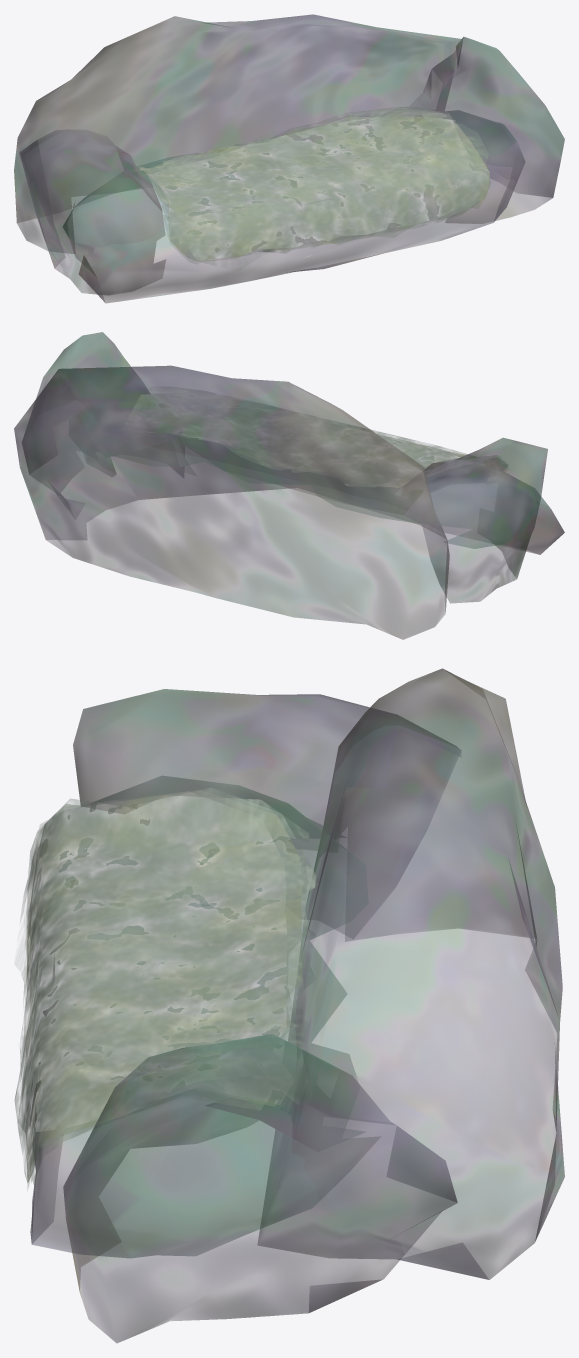
The model's file is Yoania_Mossy_Stone_Couch_Decentraland.glb.
3 renders of one model, top to bottom at view 1: azimuth 30°, elevation 25°; view 2: azimuth 150°, elevation 25°; view 3: azimuth 270°, elevation 25°, orthographic. The views are drawn at different scales.
Parts seen in each view (by area): view 1: unnamed; view 2: unnamed; view 3: unnamed.
Boxes of the visible parts, x1=… form: unnamed: x1=14, y1=14, x2=564, y2=303; unnamed: x1=14, y1=332, x2=564, y2=639; unnamed: x1=14, y1=668, x2=564, y2=1342.
Size of the model in its own units: 3.9 by 1.53 by 2.02.
Materials: 1 (1 with a texture image).
